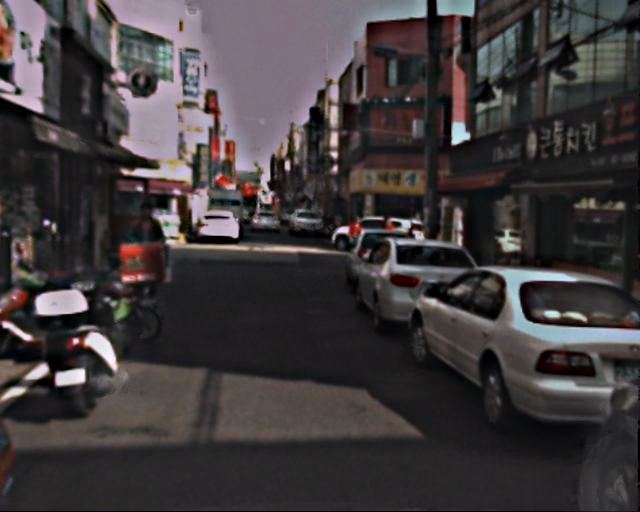person: (125, 201, 176, 308), (379, 213, 398, 259), (348, 217, 365, 259)
